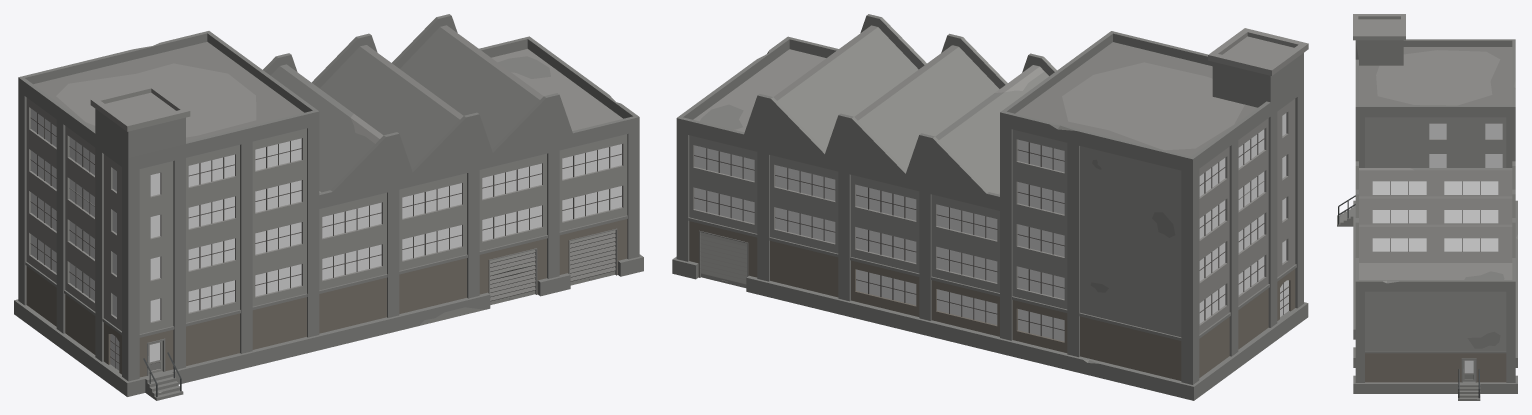
File: SM_Bldg_City_Industrial_01.fbx
3 views of the same model, side by side, from view 1: azimuth 30°, elevation 25°; view 2: azimuth 150°, elevation 25°; view 3: azimuth 270°, elevation 25° (orthographic). The views are drawn at different scales.
Parts seen in each view (by area): view 1: SM_Bldg_City_Industrial_01; view 2: SM_Bldg_City_Industrial_01; view 3: SM_Bldg_City_Industrial_01.
Boxes of the visible parts, x1,y1,x2,y2 form: SM_Bldg_City_Industrial_01: (14,14,643,400); SM_Bldg_City_Industrial_01: (672,14,1308,400); SM_Bldg_City_Industrial_01: (1337,14,1517,400).
Bounding box in the file's own units: 4016 × 1940 × 1615.
